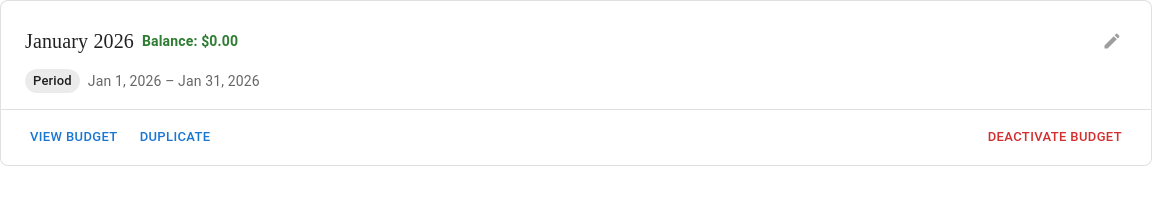
Test case: BudgetCard rename › switches to an editable name field when the rename button is clicked
Click the button named "rename" at [1112, 41], box [1097,26,1127,56]
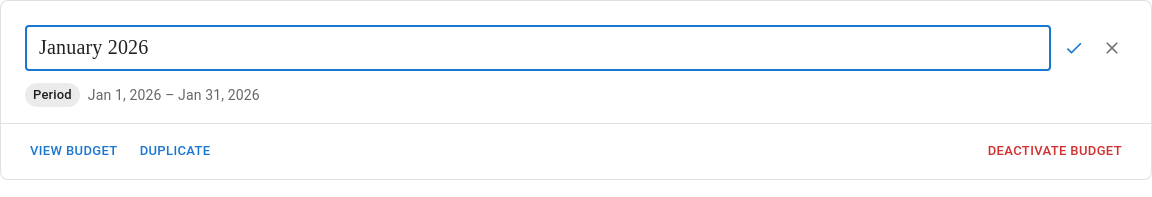
Check: the field showing "January 2026" is shown, box [25,25,1051,71]
